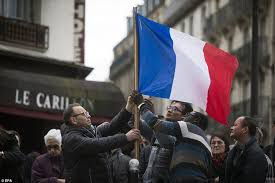French Flag: (138, 14, 239, 102)
